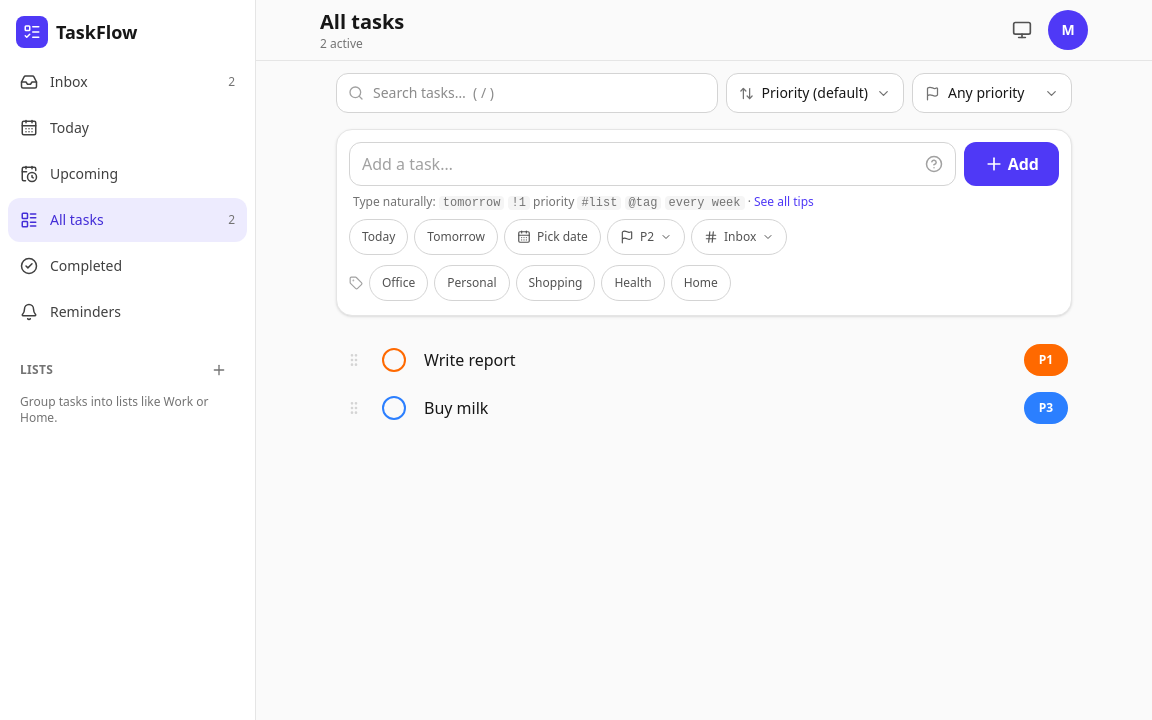
Scenario: TodoApp › undoes a completion from the toast
The image size is (1152, 720).
Click the checkbox named "Mark as done: Write report" at (394, 360), box [382,348,406,372]
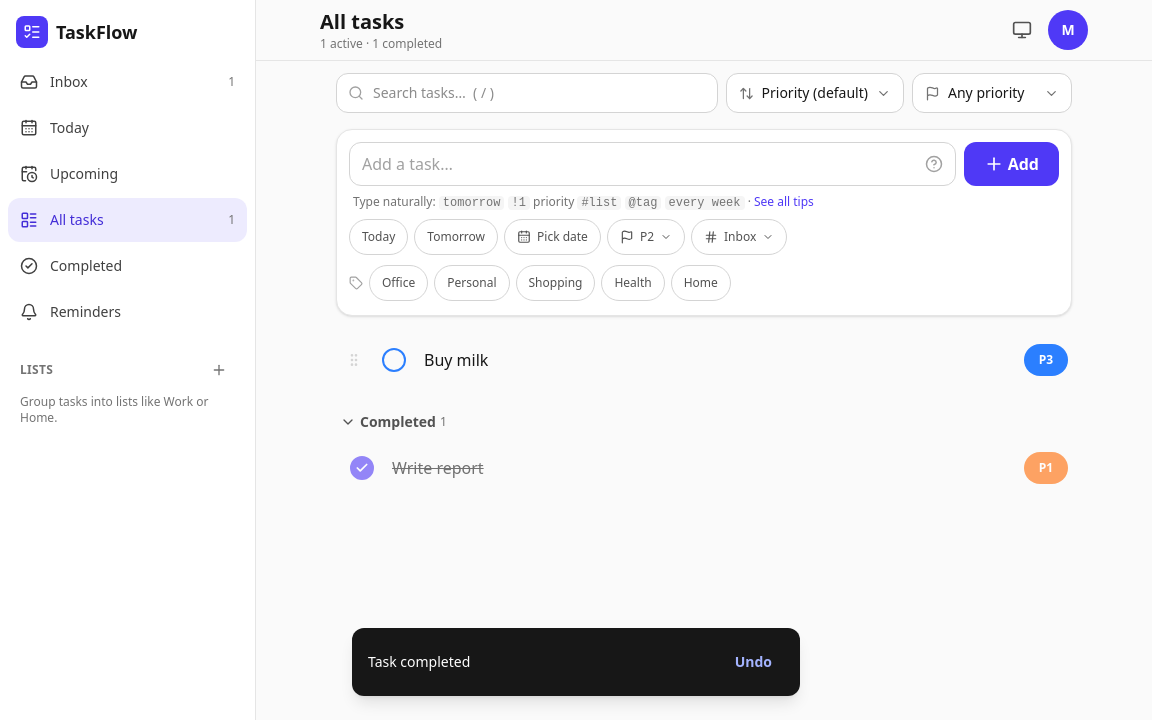
Click the button "Undo" at (753, 662), box [723,640,784,684]
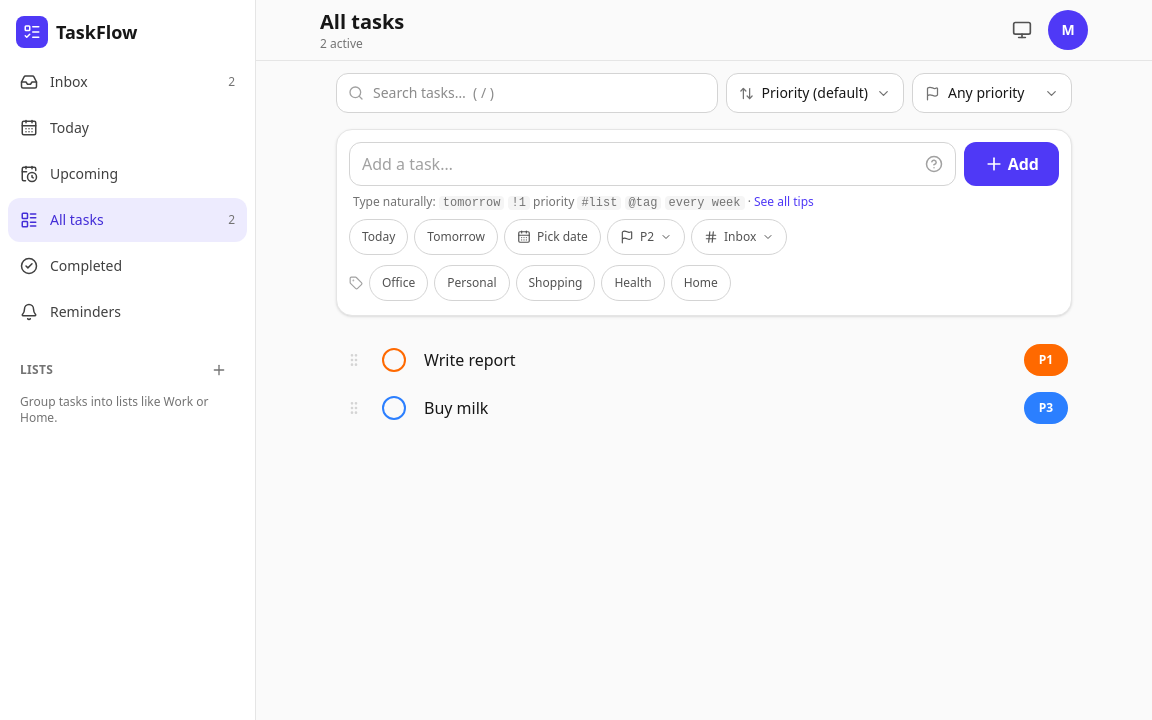
Result: the checkbox named "Mark as done: Write report" is not checked at [382,348,406,372]
